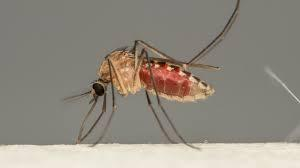Insects: (55, 0, 244, 153)
